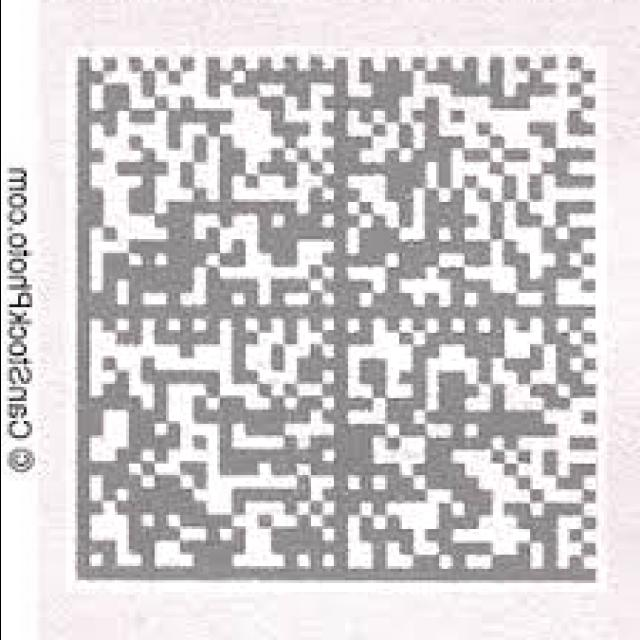DataMatrix: (65, 46, 606, 592)
